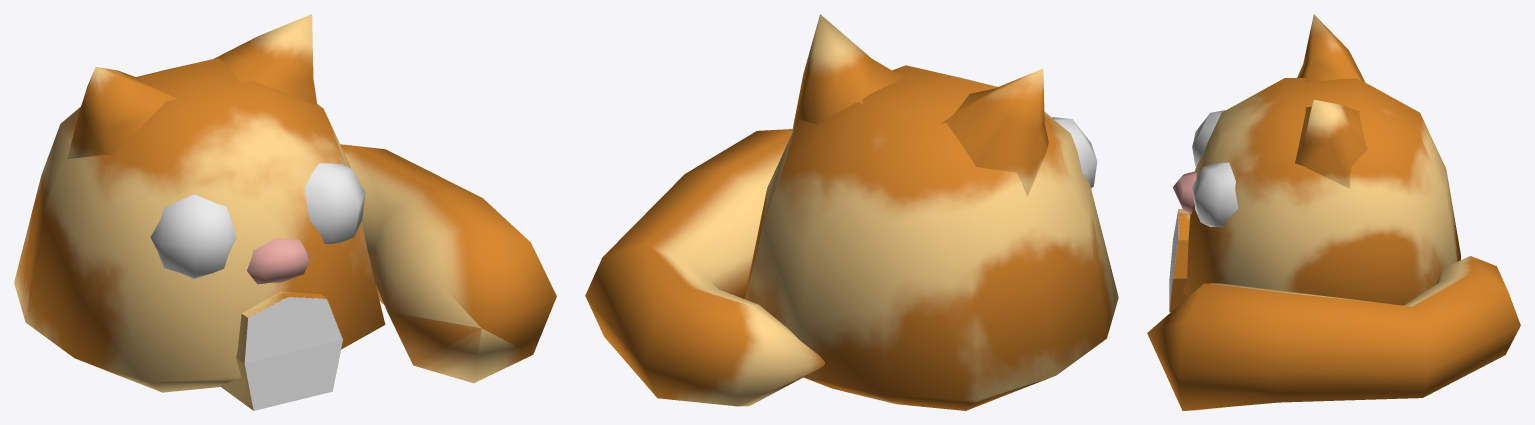
File: CasaLaranja.fbx
3 renders of one model, left to right at view 1: azimuth 30°, elevation 25°; view 2: azimuth 150°, elevation 25°; view 3: azimuth 270°, elevation 25°, orthographic. The views are drawn at different scales.
Parts seen in each view (by area): view 1: Casa laranja; view 2: Casa laranja; view 3: Casa laranja.
Boxes of the visible parts, x1,y1,x2,y2 form: Casa laranja: (14,14,556,410); Casa laranja: (585,14,1118,410); Casa laranja: (1147,14,1520,410).
Bounding box in the file's own units: 484 × 367 × 452.
